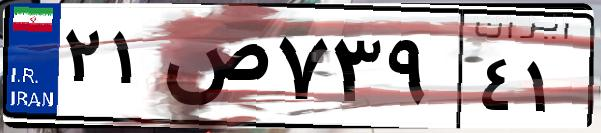1: (525, 38, 570, 115), (110, 28, 158, 98)
2: (57, 26, 110, 100)
3: (330, 28, 385, 110)
4: (475, 38, 525, 113)
7: (270, 28, 330, 110)
9: (385, 28, 445, 110)
ص: (158, 20, 270, 120)
